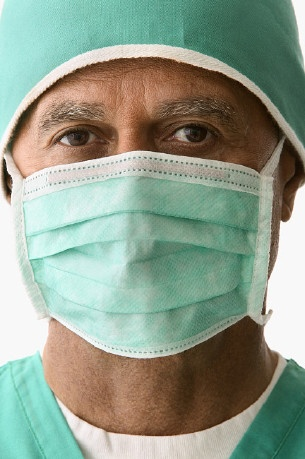Mask: (7, 74, 291, 358)
